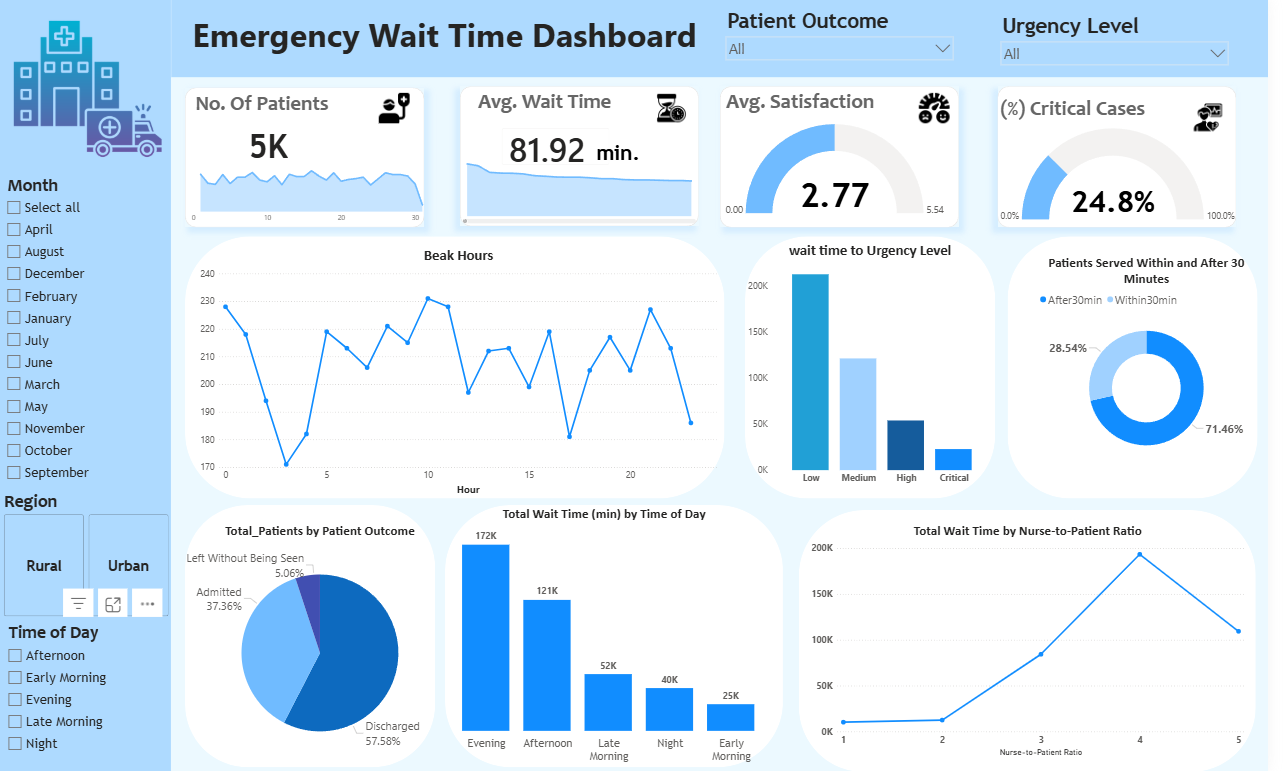

This screenshot's page, from the dashboard's own definition file:
{"tool":"powerbi","page":{"name":"Page 1","canvas":[2300,1400],"ordinal":0},"visuals":[{"type":"shape","box":[0,0,310,1399.5],"z":0},{"type":"shape","box":[309.5,0,1991.1,140],"z":1000},{"type":"textbox","box":[308.4,19.1,996.1,161],"z":2000},{"type":"shape","box":[335.7,158.3,433.9,253.8],"z":3000},{"type":"cardVisual","fields":{"Data":["ER_Wait_time_edited.Total_Patients"]},"box":[357.5,215.6,256.5,101],"z":4000},{"type":"textbox","box":[335.7,158.3,278.4,57.3],"z":5000},{"type":"areaChart","fields":{"Y":["ER_Wait_time_edited.Total_Patients"],"Category":["ER_Wait_time_edited.Visit Date.Variation.Date Hierarchy.Day"]},"box":[335.7,289.3,499.4,122.8],"z":6000},{"type":"shape","box":[834.5,157.2,433,254],"z":7000},{"type":"textbox","box":[834.5,157.2,314.4,58.1],"z":8000},{"type":"cardVisual","fields":{"Data":["ER_Wait_time_edited.Avg_Wait_Time"]},"box":[892.5,215.3,229.8,101.6],"z":9000},{"type":"areaChart","fields":{"Y":["Sum(ER_Wait_time_edited.Total Wait Time (min))"],"Category":["ER_Wait_time_edited.Visit ID"]},"box":[834.5,268.5,433,142.7],"z":10000},{"type":"textbox","box":[1052.2,249.1,137.9,91.9],"z":11000},{"type":"shape","box":[1306.2,157.2,433,256.4],"z":12000},{"type":"shape","box":[1809.3,157.2,433,256.4],"z":13000},{"type":"textbox","box":[1303.7,157.2,292.7,58.1],"z":14000},{"type":"gauge","fields":{"Y":["ER_Wait_time_edited.Avg_Satisfaction"]},"box":[1306.2,215.3,416,186.2],"z":15000},{"type":"textbox","box":[1809.3,166.9,316.9,58.1],"z":16000},{"type":"gauge","fields":{"Y":["ER_Wait_time_edited.Critical_Cases_%"]},"box":[1804.4,217.7,445.1,200.8],"z":17000},{"type":"image","box":[17.2,22.1,282,277.1],"z":18000},{"type":"image","box":[686.9,142.7,55.6,106.4],"z":19000},{"type":"image","box":[1190.1,142.7,55,106.4],"z":20000},{"type":"image","box":[1666.6,142.7,55.6,106.4],"z":21000},{"type":"image","box":[2162.4,128.2,55.6,166.9],"z":22000},{"type":"slicer","fields":{"Values":["ER_Wait_time_edited.Month"]},"box":[0,309.6,210.4,578.1],"z":23000},{"type":"textbox","box":[336,412,434,988],"z":24000},{"type":"slicer","fields":{"Values":["ER_Wait_time_edited.Patient Outcome"]},"box":[1306.2,12.1,433,116.1],"z":25000},{"type":"slicer","fields":{"Values":["ER_Wait_time_edited.Urgency Level"]},"box":[1804.4,19.4,433,106.4],"z":26000},{"type":"advancedSlicerVisual","fields":{"Values":["ER_Wait_time_edited.Region"]},"box":[2.4,887.7,309.6,234.6],"z":27000},{"type":"slicer","fields":{"Values":["ER_Wait_time_edited.Time of Day"]},"box":[2.4,1122.3,295.1,251.6],"z":28000},{"type":"shape","box":[336,429.2,978.6,475.8],"z":29000},{"type":"lineChart","title":"Beak Hours","fields":{"Category":["ER_Wait_time_edited.Hour"],"Y":["ER_Wait_time_edited.Total_Patients"]},"box":[358.1,446.4,946.7,458.6],"z":30000},{"type":"shape","box":[1351.4,429.2,453.7,475.8],"z":31000},{"type":"clusteredColumnChart","title":"wait time to Urgency Level","fields":{"Category":["ER_Wait_time_edited.Urgency Level"],"Y":["Sum(ER_Wait_time_edited.Total Wait Time (min))"]},"box":[1351.4,436.6,453.7,451.3],"z":32000},{"type":"shape","box":[1827.2,429.2,453.7,475.8],"z":33000},{"type":"shape","box":[806.9,914.8,613.1,475.8],"z":34000},{"type":"donutChart","title":"Patients Served Within and After 30 Minutes","fields":{"Y":["ER_Wait_time_edited.Patients_After_30min_%","ER_Wait_time_edited.Patients_Within_30min_%"]},"box":[1878.7,461.1,399.8,392.4],"z":35000},{"type":"clusteredColumnChart","title":"Total Wait Time (min) by Time of Day","fields":{"Category":["ER_Wait_time_edited.Time of Day"],"Y":["Sum(ER_Wait_time_edited.Total Wait Time (min))"]},"box":[770.1,914.8,649.9,475.8],"z":36000},{"type":"shape","box":[336,914.8,453.7,475.8],"z":37000},{"type":"pieChart","fields":{"Category":["ER_Wait_time_edited.Patient Outcome"],"Y":["ER_Wait_time_edited.Total_Patients"]},"box":[323.7,946.7,512.6,443.9],"z":38000},{"type":"shape","box":[1449.5,924.6,829,475.8],"z":39000},{"type":"lineChart","title":"Total Wait Time by Nurse-to-Patient Ratio","fields":{"Y":["Sum(ER_Wait_time_edited.Total Wait Time (min))"],"Category":["ER_Wait_time_edited.Nurse-to-Patient Ratio"]},"box":[1466.6,946.7,794.6,429.2],"z":39001}]}

Visuals, with their boxes in screenshot pixels (x1, y1, x2, y2), scaled from the page's 2300x1400 canvas onto the 1284x771 screenshot:
shape: box(0, 0, 173, 770)
shape: box(173, 0, 1283, 77)
textbox: box(172, 11, 728, 99)
shape: box(187, 87, 430, 227)
cardVisual - ER_Wait_time_edited.Total_Patients: box(200, 119, 343, 174)
textbox: box(187, 87, 343, 119)
areaChart - ER_Wait_time_edited.Total_Patients x ER_Wait_time_edited.Visit Date.Variation.Date Hierarchy.Day: box(187, 159, 466, 227)
shape: box(466, 87, 708, 226)
textbox: box(466, 87, 641, 119)
cardVisual - ER_Wait_time_edited.Avg_Wait_Time: box(498, 119, 627, 175)
areaChart - Sum(ER_Wait_time_edited.Total Wait Time (min)) x ER_Wait_time_edited.Visit ID: box(466, 148, 708, 226)
textbox: box(587, 137, 664, 188)
shape: box(729, 87, 971, 228)
shape: box(1010, 87, 1252, 228)
textbox: box(728, 87, 891, 119)
gauge - ER_Wait_time_edited.Avg_Satisfaction: box(729, 119, 961, 221)
textbox: box(1010, 92, 1187, 124)
gauge - ER_Wait_time_edited.Critical_Cases_%: box(1007, 120, 1256, 230)
image: box(10, 12, 167, 165)
image: box(383, 79, 415, 137)
image: box(664, 79, 695, 137)
image: box(930, 79, 961, 137)
image: box(1207, 71, 1238, 163)
slicer - ER_Wait_time_edited.Month: box(0, 171, 117, 489)
textbox: box(188, 227, 430, 770)
slicer - ER_Wait_time_edited.Patient Outcome: box(729, 7, 971, 71)
slicer - ER_Wait_time_edited.Urgency Level: box(1007, 11, 1249, 69)
advancedSlicerVisual - ER_Wait_time_edited.Region: box(1, 489, 174, 618)
slicer - ER_Wait_time_edited.Time of Day: box(1, 618, 166, 757)
shape: box(188, 236, 734, 498)
"Beak Hours" lineChart: box(200, 246, 728, 498)
shape: box(754, 236, 1008, 498)
"wait time to Urgency Level" clusteredColumnChart: box(754, 240, 1008, 489)
shape: box(1020, 236, 1273, 498)
shape: box(450, 504, 793, 766)
"Patients Served Within and After 30 Minutes" donutChart: box(1049, 254, 1272, 470)
"Total Wait Time (min) by Time of Day" clusteredColumnChart: box(430, 504, 793, 766)
shape: box(188, 504, 441, 766)
pieChart - ER_Wait_time_edited.Patient Outcome x ER_Wait_time_edited.Total_Patients: box(181, 521, 467, 766)
shape: box(809, 509, 1272, 770)
"Total Wait Time by Nurse-to-Patient Ratio" lineChart: box(819, 521, 1262, 758)
